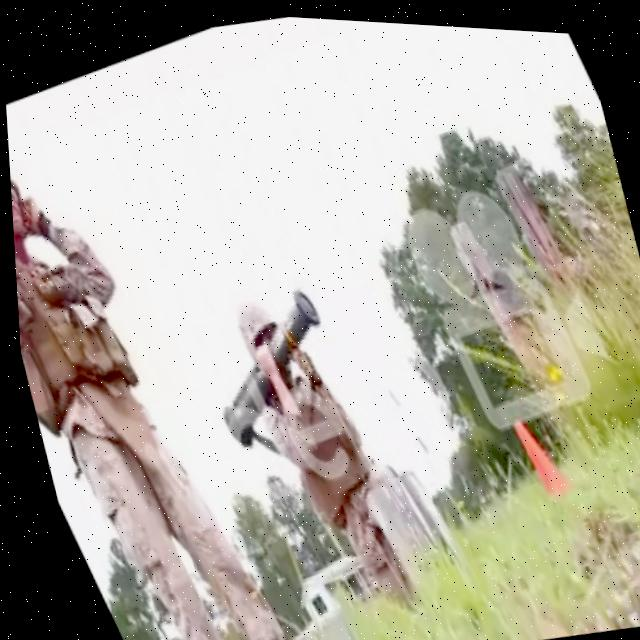rocket: (171, 271, 371, 467)
